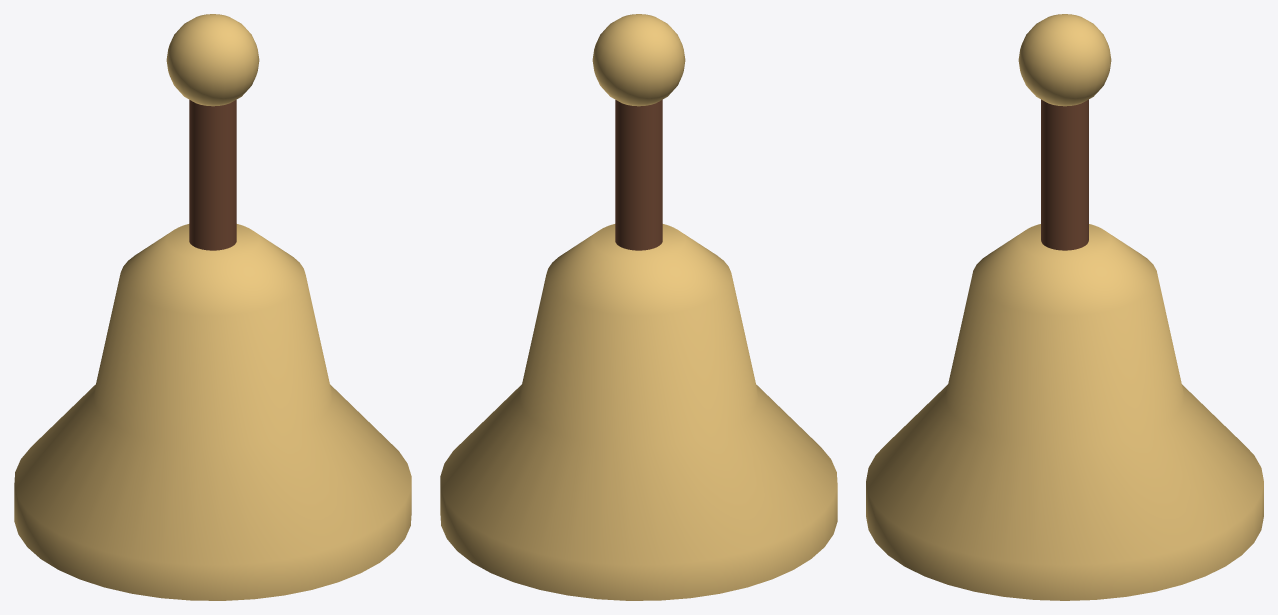
The model's file is royal-court-and-throne-palace-ceremonial-bell-ca245a53__29414.glb.
3 views of the same model, side by side, from view 1: azimuth 30°, elevation 25°; view 2: azimuth 150°, elevation 25°; view 3: azimuth 270°, elevation 25° (orthographic).
Visible parts, largest first — view 1: ceremonial-bell; view 2: ceremonial-bell; view 3: ceremonial-bell.
Part boxes in pixels (box(x1,y1,x2,y2)): ceremonial-bell: box(14, 14, 411, 600); ceremonial-bell: box(440, 14, 837, 600); ceremonial-bell: box(866, 14, 1263, 600).
Size of the model in its own units: 0.3 by 0.415 by 0.3.
